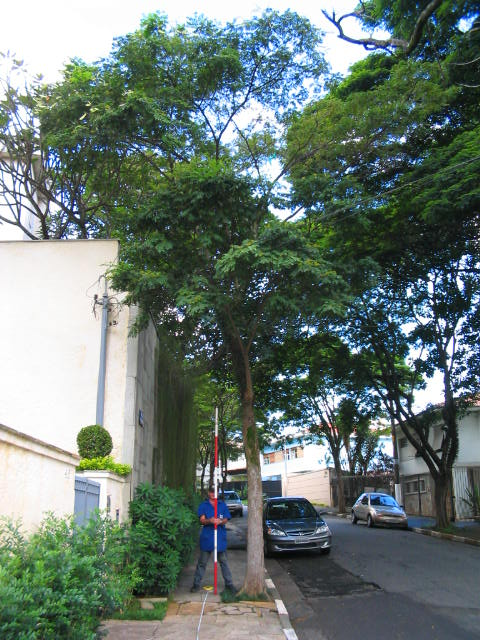crown: (34, 15, 378, 352)
stem: (223, 362, 280, 597), (424, 479, 455, 529)
stick: (206, 407, 224, 597)
tree: (32, 15, 379, 596), (326, 271, 476, 529)
